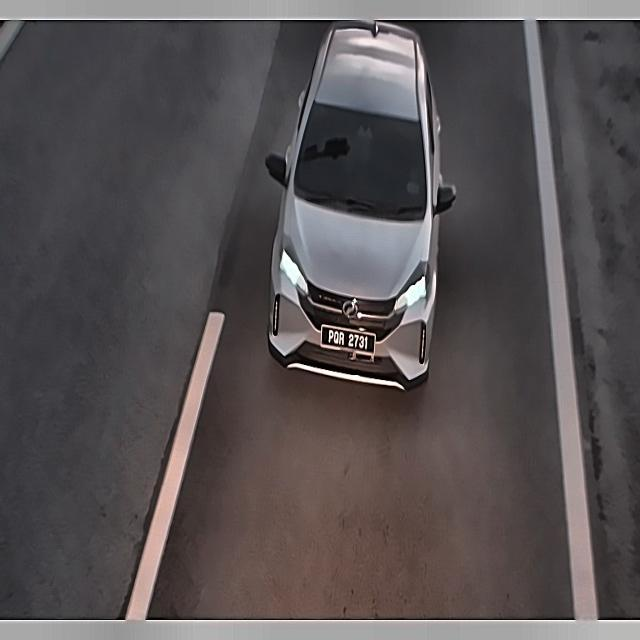car: (318, 314, 376, 356)
